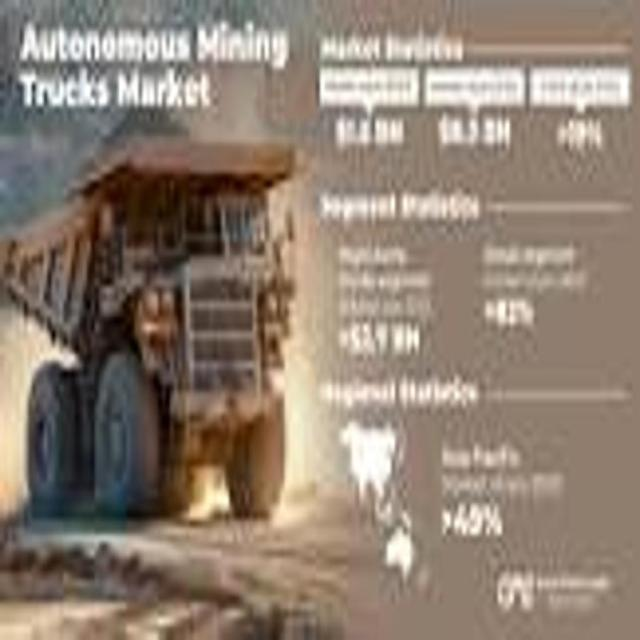dump_truck: (5, 140, 302, 539)
